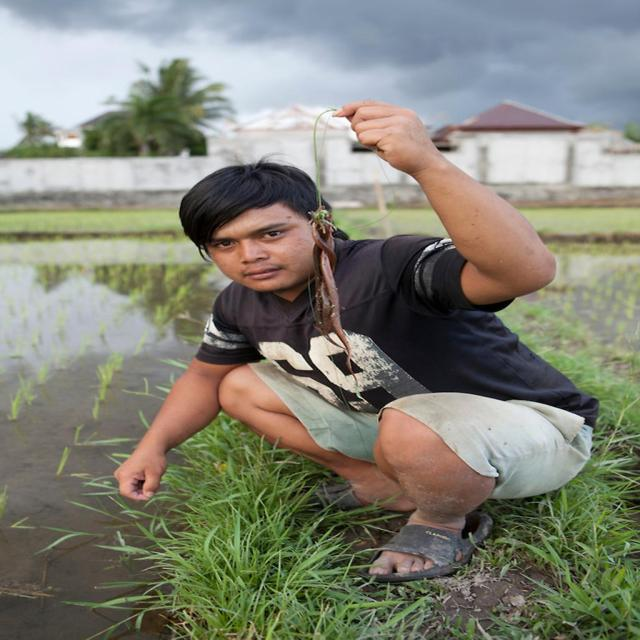Face: (197, 182, 352, 292)
